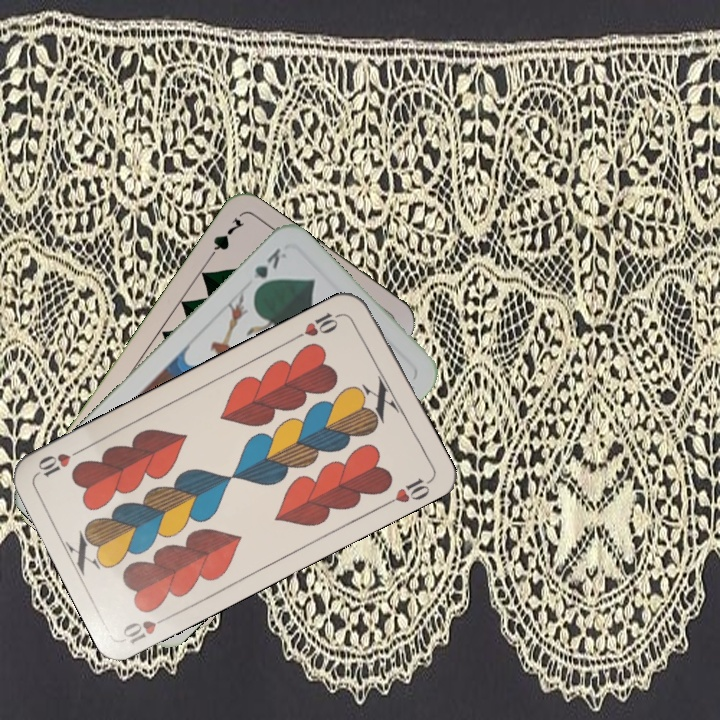G7: (203, 213, 247, 265)
GK: (249, 243, 290, 295)
H10: (118, 610, 175, 647), (291, 308, 346, 342)
